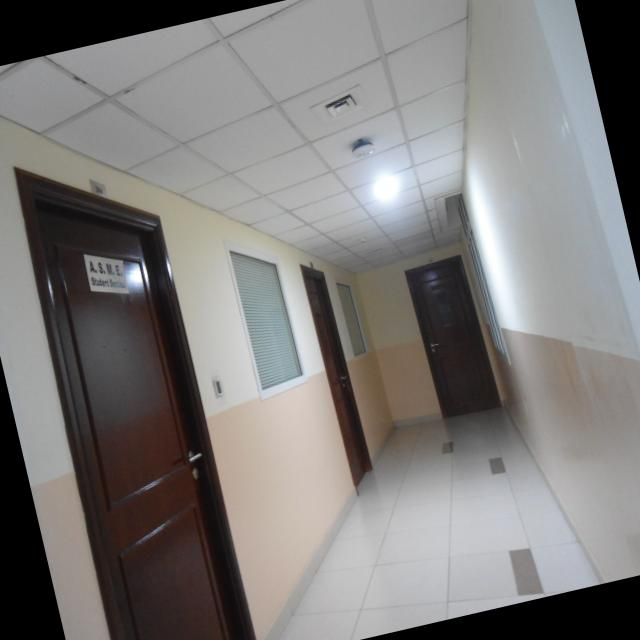door: (0, 137, 258, 640), (296, 254, 382, 484), (400, 252, 502, 418)
